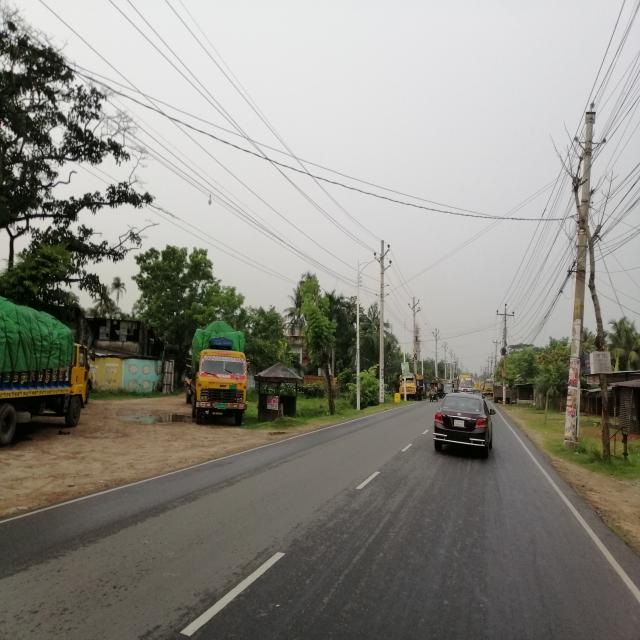Car: (426, 379, 512, 465)
Truck: (182, 318, 254, 436)
